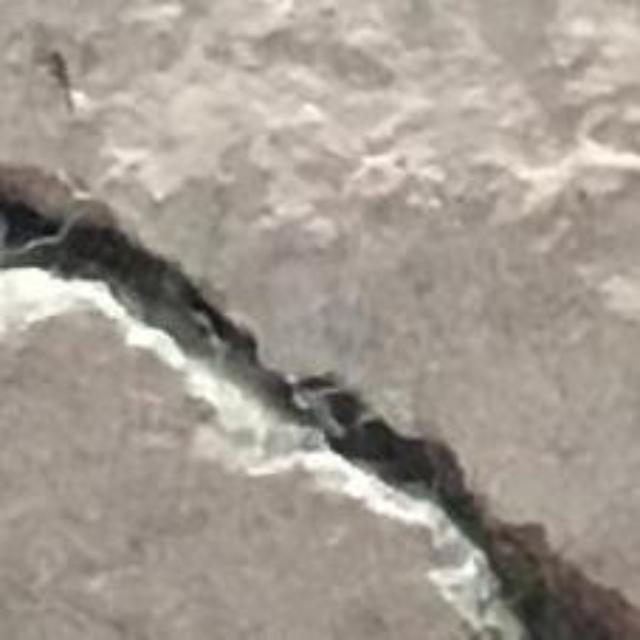crack: (0, 164, 639, 639)
